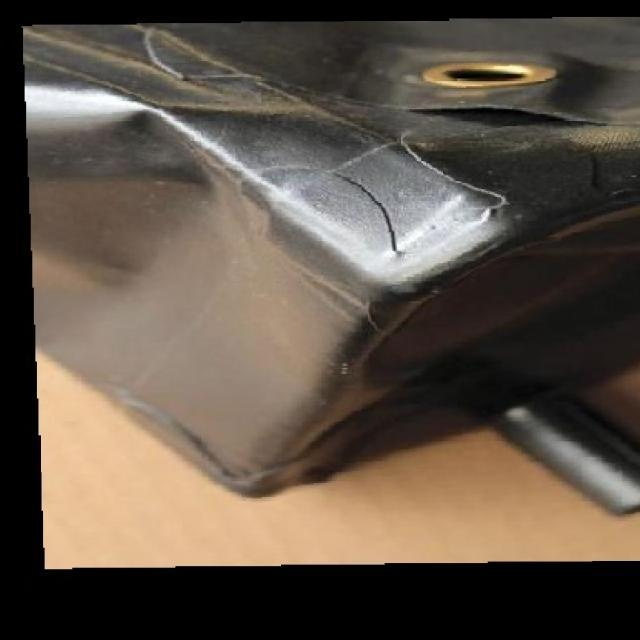crack: (329, 170, 451, 286)
